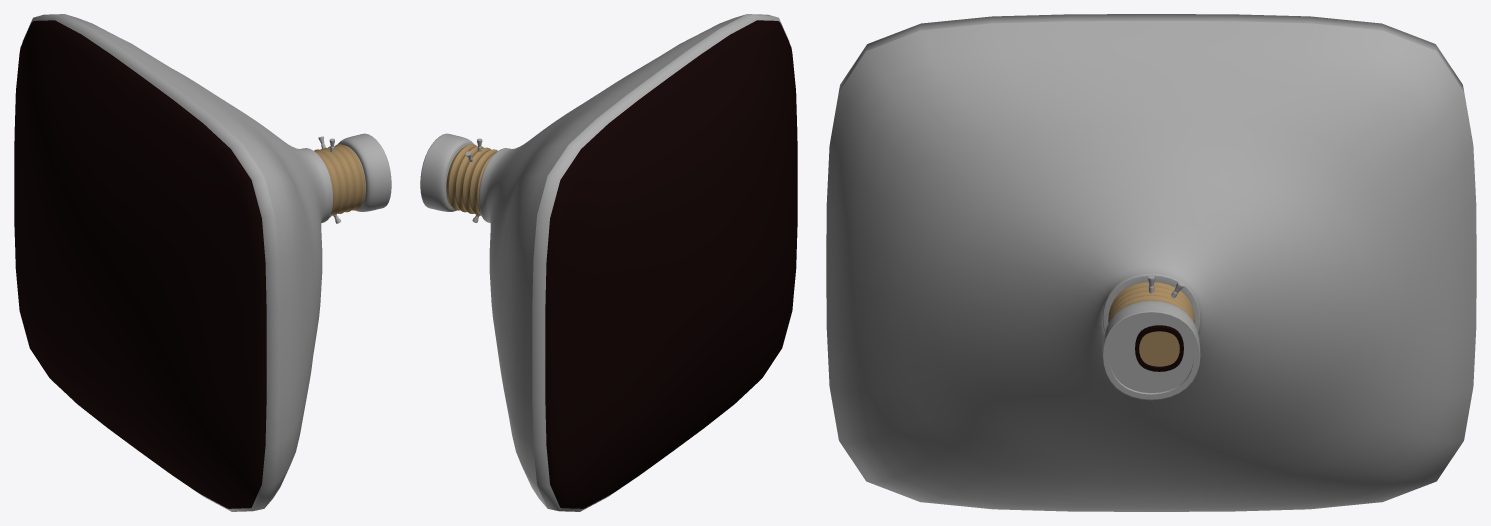
Rendered from assets.glb.
The picture shows the model from 3 angles, left to right: view 1: azimuth 30°, elevation 25°; view 2: azimuth 150°, elevation 25°; view 3: azimuth 270°, elevation 25°; orthographic projection. The views are drawn at different scales.
Visible parts, largest first — view 1: cathode-tube; view 2: cathode-tube; view 3: cathode-tube.
Boxes of the visible parts, bbox=[...] form: cathode-tube: bbox=[14, 14, 391, 511]; cathode-tube: bbox=[420, 14, 797, 511]; cathode-tube: bbox=[826, 14, 1476, 511].
Size of the model in its own units: 1.61 by 2.03 by 2.44.
Materials: 1 (1 with a texture image).
